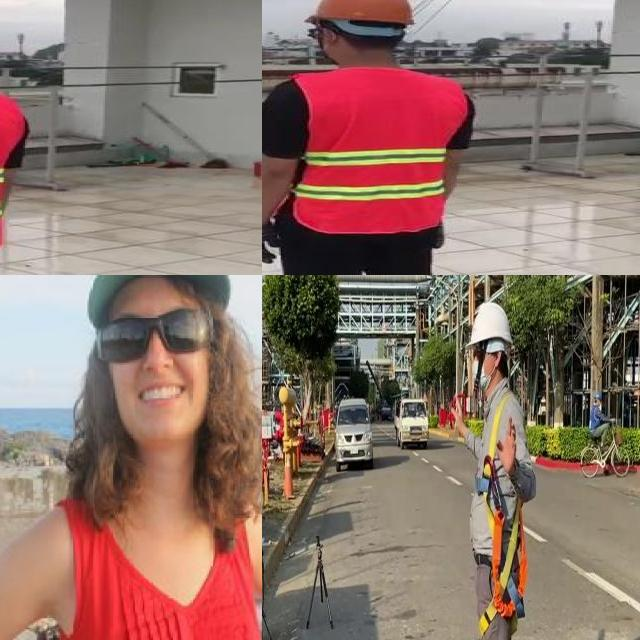Harness: (480, 393, 528, 634)
face_nomask: (108, 313, 205, 416)
glasses: (84, 296, 200, 363)
hand_glove: (262, 225, 286, 267)
head_helmet: (299, 0, 414, 26)
head_nohelmet: (87, 275, 242, 316)
person: (0, 275, 262, 640), (262, 0, 480, 275)
vest: (286, 67, 467, 231)
